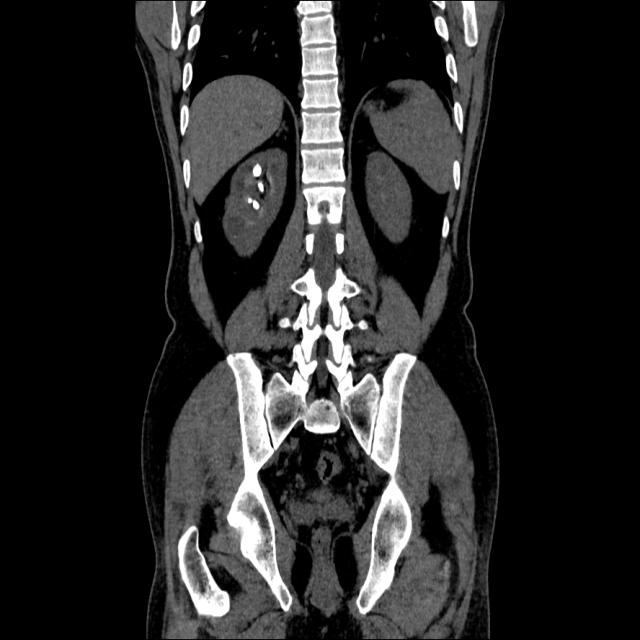kidneystone: (249, 196, 260, 210), (252, 164, 259, 174), (258, 182, 264, 192)
